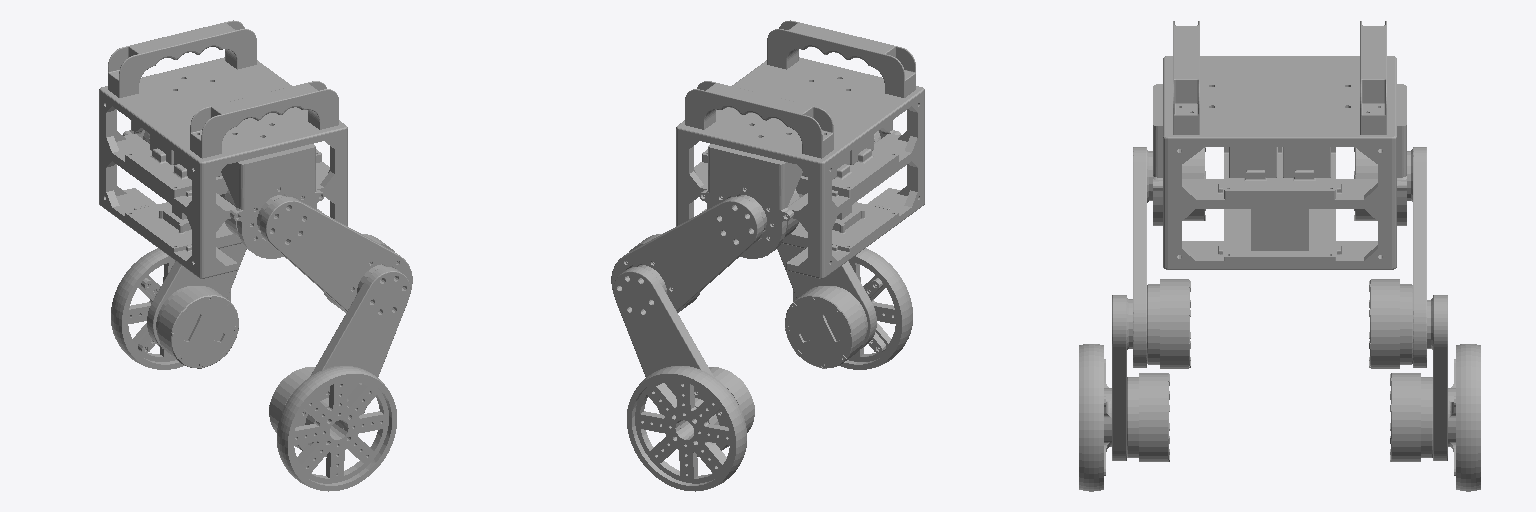
URDF robot description (lucasURDF):
<?xml version="1.0" encoding="utf-8"?>
<!-- This URDF was automatically created by SolidWorks to URDF Exporter! Originally created by [author] ([email redacted]) 
     Commit Version: 1.6.0-4-g7f85cfe  Build Version: 1.6.7995.38578
     For more information, please see http://wiki.ros.org/sw_urdf_exporter -->
<robot
  name="lucasURDF">
  <link
    name="base_link">
    <inertial>
      <origin
        xyz="0.0030954 2.2919E-09 0.083709"
        rpy="0 0 0" />
      <mass
        value="3.9335" />
      <inertia
        ixx="0.015226"
        ixy="-4.437E-09"
        ixz="1.0651E-06"
        iyy="0.016935"
        iyz="-1.1435E-10"
        izz="0.020234" />
    </inertial>
    <visual>
      <origin
        xyz="0 0 0"
        rpy="0 0 0" />
      <geometry>
        <mesh
          filename="package://lucasURDF/meshes/base_link.STL" />
      </geometry>
      <material
        name="">
        <color
          rgba="0.69804 0.69804 0.69804 1" />
      </material>
    </visual>
    <collision>
      <origin
        xyz="0 0 0"
        rpy="0 0 0" />
      <geometry>
        <mesh
          filename="package://lucasURDF/meshes/base_link.STL" />
      </geometry>
    </collision>
  </link>
  <link
    name="thigh">
    <inertial>
      <origin
        xyz="0.1616 1.4647E-15 0.080962"
        rpy="0 0 0" />
      <mass
        value="2.4339" />
      <inertia
        ixx="0.0032145"
        ixy="-4.2463E-09"
        ixz="-0.00026107"
        iyy="0.0069314"
        iyz="5.9301E-09"
        izz="0.0041011" />
    </inertial>
    <visual>
      <origin
        xyz="0 0 0"
        rpy="0 0 0" />
      <geometry>
        <mesh
          filename="package://lucasURDF/meshes/thigh.STL" />
      </geometry>
      <material
        name="">
        <color
          rgba="0.69804 0.69804 0.69804 1" />
      </material>
    </visual>
    <collision>
      <origin
        xyz="0 0 0"
        rpy="0 0 0" />
      <geometry>
        <mesh
          filename="package://lucasURDF/meshes/thigh.STL" />
      </geometry>
    </collision>
  </link>
  <joint
    name="hip"
    type="continuous">
    <origin
      xyz="0 0 0.06"
      rpy="3.1416 0.73435 0" />
    <parent
      link="base_link" />
    <child
      link="thigh" />
    <axis
      xyz="0 1 0" />
  </joint>
  <link
    name="shin">
    <inertial>
      <origin
        xyz="0.1421 0.172 -2.7611E-05"
        rpy="0 0 0" />
      <mass
        value="1.42" />
      <inertia
        ixx="0.001417"
        ixy="2.7828E-19"
        ixz="-3.5707E-07"
        iyy="0.0038613"
        iyz="4.3486E-09"
        izz="0.0026614" />
    </inertial>
    <visual>
      <origin
        xyz="0 0 0"
        rpy="0 0 0" />
      <geometry>
        <mesh
          filename="package://lucasURDF/meshes/shin.STL" />
      </geometry>
      <material
        name="">
        <color
          rgba="0.69804 0.69804 0.69804 1" />
      </material>
    </visual>
    <collision>
      <origin
        xyz="0 0 0"
        rpy="0 0 0" />
      <geometry>
        <mesh
          filename="package://lucasURDF/meshes/shin.STL" />
      </geometry>
    </collision>
  </link>
  <joint
    name="knee"
    type="continuous">
    <origin
      xyz="0.165 -0.172 0"
      rpy="0 -1.3535 0" />
    <parent
      link="thigh" />
    <child
      link="shin" />
    <axis
      xyz="0 1 0" />
  </joint>
  <link
    name="leftwheel">
    <inertial>
      <origin
        xyz="-7.4231E-11 0.0055888 7.303E-10"
        rpy="0 0 0" />
      <mass
        value="0.31421" />
      <inertia
        ixx="0.00046114"
        ixy="-6.7334E-19"
        ixz="1.4492E-13"
        iyy="0.0008936"
        iyz="2.6066E-15"
        izz="0.00046054" />
    </inertial>
    <visual>
      <origin
        xyz="0 0 0"
        rpy="0 0 0" />
      <geometry>
        <mesh
          filename="package://lucasURDF/meshes/leftwheel.STL" />
      </geometry>
      <material
        name="">
        <color
          rgba="0.69804 0.69804 0.69804 1" />
      </material>
    </visual>
    <collision>
      <origin
        xyz="0 0 0"
        rpy="0 0 0" />
      <geometry>
        <mesh
          filename="package://lucasURDF/meshes/leftwheel.STL" />
      </geometry>
    </collision>
  </link>
  <joint
    name="leftwheel"
    type="continuous">
    <origin
      xyz="0.165 0.365 0"
      rpy="-3.1416 1.2517 0" />
    <parent
      link="shin" />
    <child
      link="leftwheel" />
    <axis
      xyz="0 1 0" />
  </joint>
  <link
    name="rightwheel">
    <inertial>
      <origin
        xyz="-6.9429E-11 0.0055888 -6.8327E-10"
        rpy="0 0 0" />
      <mass
        value="0.31421" />
      <inertia
        ixx="0.00046114"
        ixy="-4.47E-19"
        ixz="1.4497E-13"
        iyy="0.0008936"
        iyz="-2.6066E-15"
        izz="0.00046054" />
    </inertial>
    <visual>
      <origin
        xyz="0 0 0"
        rpy="0 0 0" />
      <geometry>
        <mesh
          filename="package://lucasURDF/meshes/rightwheel.STL" />
      </geometry>
      <material
        name="">
        <color
          rgba="0.69804 0.69804 0.69804 1" />
      </material>
    </visual>
    <collision>
      <origin
        xyz="0 0 0"
        rpy="0 0 0" />
      <geometry>
        <mesh
          filename="package://lucasURDF/meshes/rightwheel.STL" />
      </geometry>
    </collision>
  </link>
  <joint
    name="rightwheel"
    type="continuous">
    <origin
      xyz="0.165 -0.021 0"
      rpy="0 1.2517 0" />
    <parent
      link="shin" />
    <child
      link="rightwheel" />
    <axis
      xyz="0 1 0" />
  </joint>
</robot>

--- Render facts (derived) ---
3 views of the same robot in one strip: view 1: azimuth 30°, elevation 25°; view 2: azimuth 150°, elevation 25°; view 3: azimuth 270°, elevation 25° (orthographic).
Robot: lucasURDF — 5 links, 4 joints (4 continuous); root link base_link; default pose: all joints at 0.
Visible links, largest first — view 1: base_link, shin, leftwheel, thigh, rightwheel; view 2: base_link, shin, rightwheel, thigh, leftwheel; view 3: base_link, thigh, shin, leftwheel, rightwheel.
Boxes of the visible links, x1,y1,x2,y2 form: base_link: (99,20,347,278); shin: (147,243,410,456); leftwheel: (277,366,396,491); thigh: (257,195,412,312); rightwheel: (111,248,230,369); base_link: (676,20,924,278); shin: (613,243,876,456); rightwheel: (627,366,746,491); thigh: (611,195,766,312); leftwheel: (793,248,912,369); base_link: (1153,21,1406,269); thigh: (1133,147,1426,368); shin: (1112,295,1447,461); leftwheel: (1079,344,1111,491); rightwheel: (1448,344,1480,491).
Bounding box of the posed robot: 0.2685 × 0.4116 × 0.4698 m (x, y, z).
Meshes: 5 distinct files referenced, 5 mesh visuals loaded (5 binary STL).
